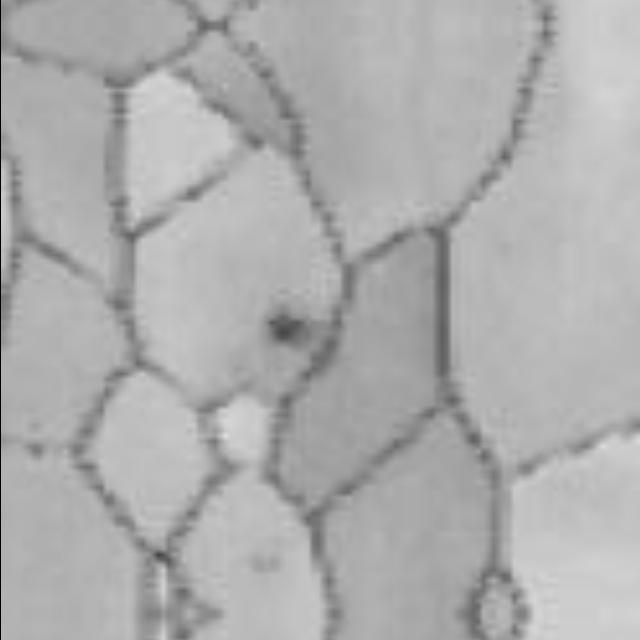good_void: (268, 318, 312, 349), (26, 450, 44, 464)
